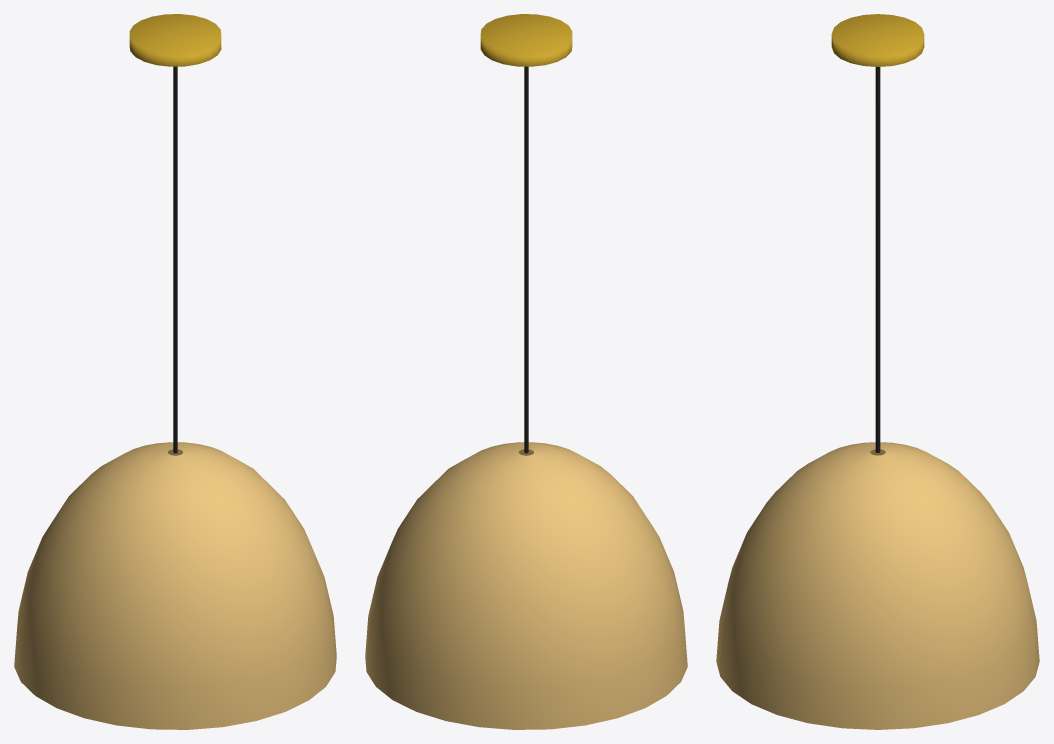
File: FET-PND-std.glb
3 renders of one model, left to right at view 1: azimuth 30°, elevation 25°; view 2: azimuth 150°, elevation 25°; view 3: azimuth 270°, elevation 25°, orthographic.
Visible parts, largest first — view 1: FET-PND-std; view 2: FET-PND-std; view 3: FET-PND-std.
Part boxes in pixels (x1,y1,x2,y2): FET-PND-std: (14, 14, 336, 729); FET-PND-std: (365, 14, 687, 729); FET-PND-std: (716, 14, 1039, 729).
Bounding box in the file's own units: 0.42 × 0.9 × 0.42.
